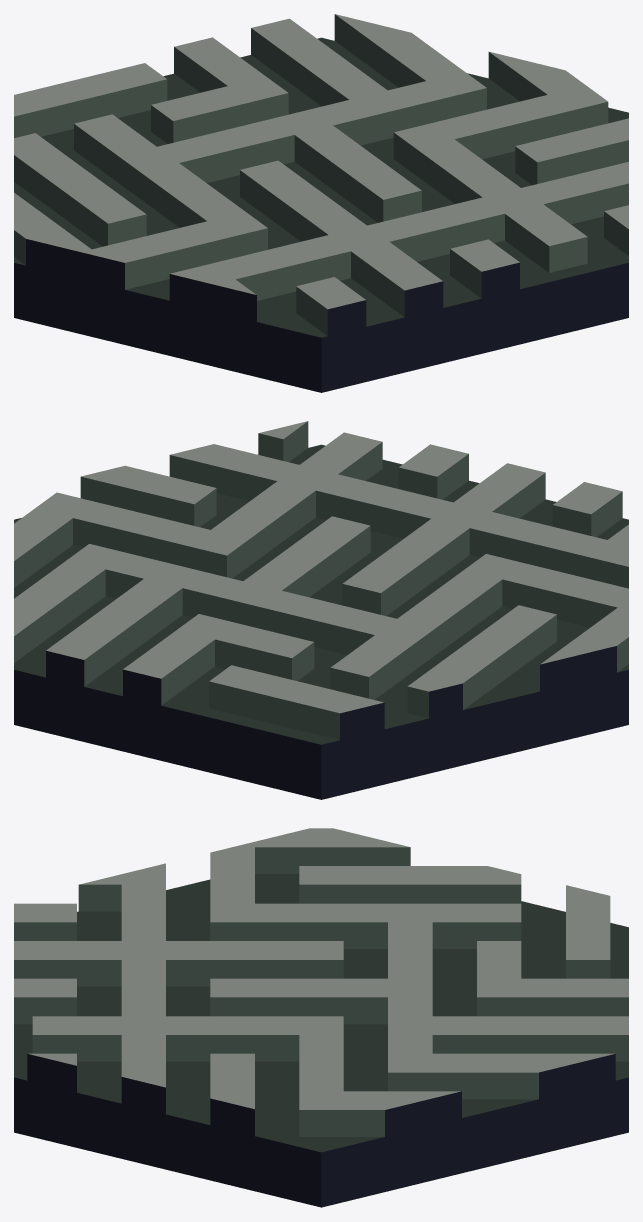
File: SM_Secret_06.fbx
3 renders of one model, top to bottom at view 1: azimuth 30°, elevation 25°; view 2: azimuth 150°, elevation 25°; view 3: azimuth 270°, elevation 25°, orthographic.
Parts seen in each view (by area): view 1: SM_Secret_06; view 2: SM_Secret_06; view 3: SM_Secret_06.
Part boxes in pixels (bbox=[...]): SM_Secret_06: bbox=[14, 14, 628, 392]; SM_Secret_06: bbox=[14, 421, 628, 799]; SM_Secret_06: bbox=[14, 828, 628, 1207].
Bounding box in the file's own units: 47.94 × 6.11 × 41.52.
1 material, 1 textured.
